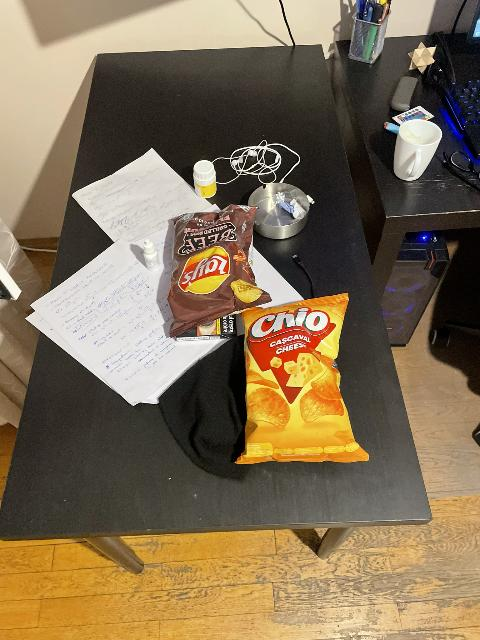Chio Hula Hoops Cheese 70g: (234, 291, 371, 466)
Lays Beef Grilled Ribs 125g: (166, 207, 270, 338)
